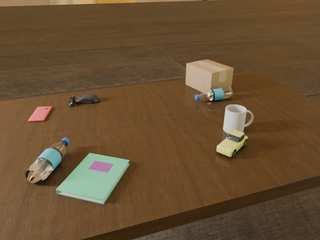book: (56, 153, 130, 204)
bottle: (25, 138, 70, 184), (195, 87, 233, 101)
box: (186, 60, 233, 92)
cup: (223, 105, 253, 133)
mouse: (68, 93, 100, 106)
phone: (28, 107, 52, 121)
toy_car: (217, 129, 248, 158)
